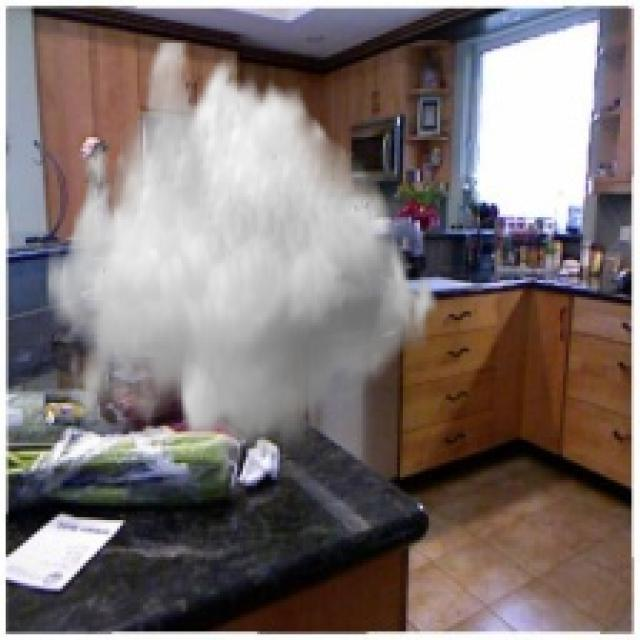Smoke: (46, 40, 446, 457)
